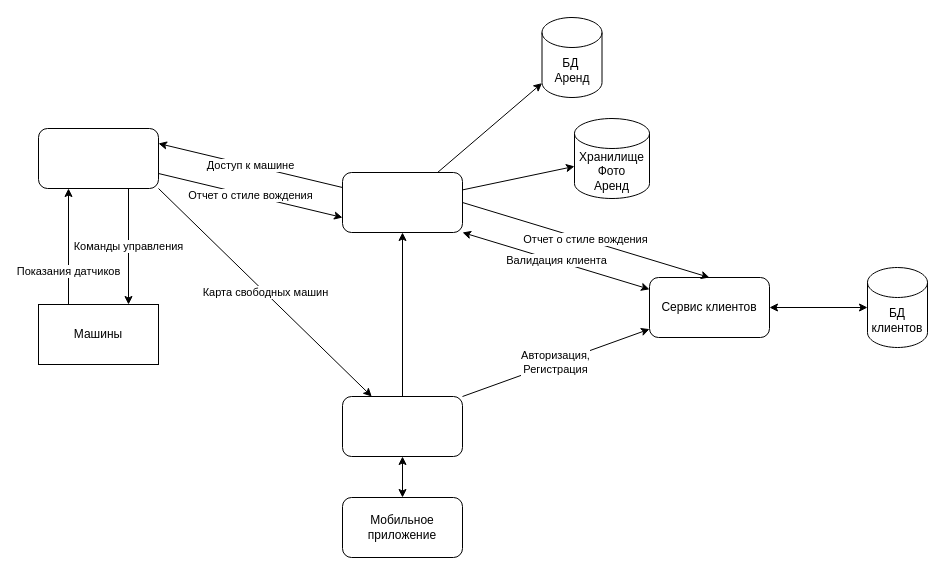
Image size: 946x575. Some labels were removed from this diagram. Here are the shapes that lost their labels. From the top down, the centre of each, then its label:
At [98,158]: "Сервис телекоммуникации".
At [402,202]: "Сервис Аренды".
At [402,426]: "Клиент сервис".
